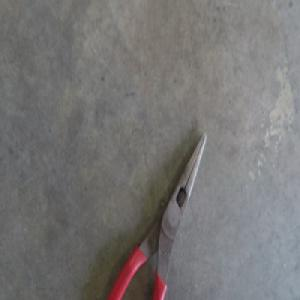Pliers: (108, 128, 207, 299)
